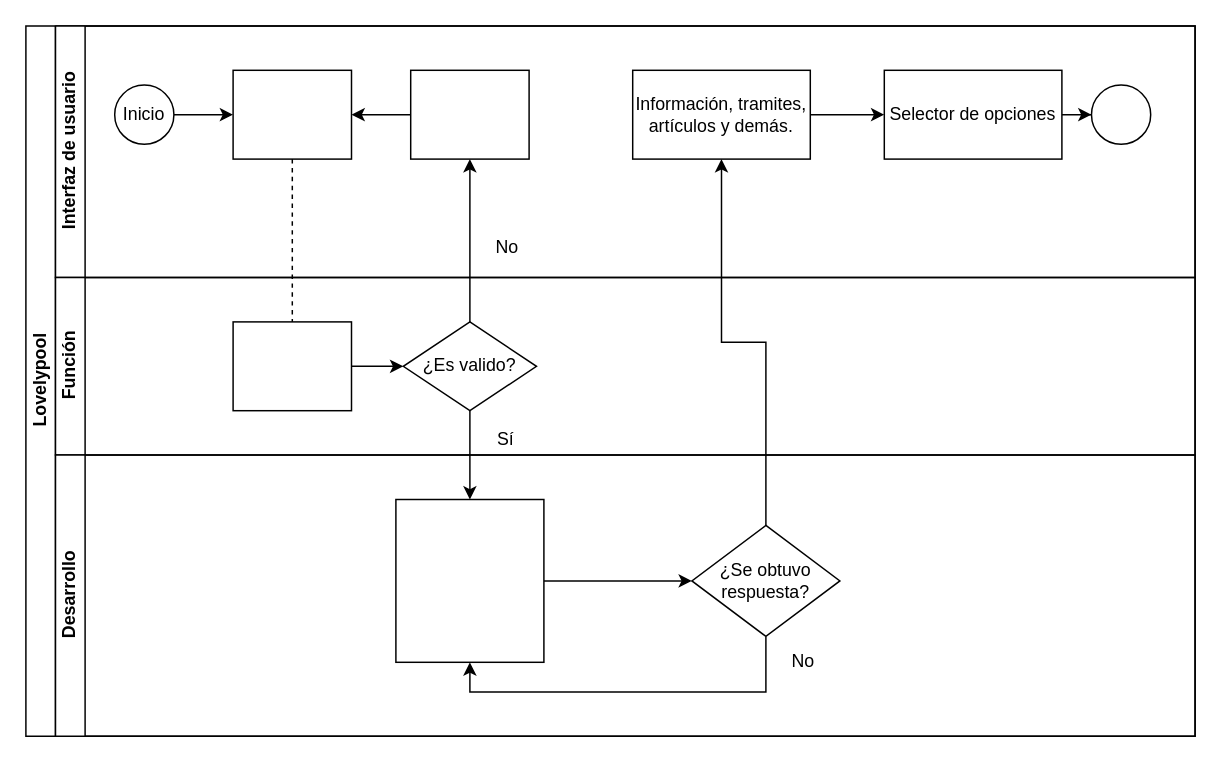
Some shapes in this 1221 by 762 pixel diagram are drawn without their labels. Here are the shapes that lost their labels. From the top down, the centre of each, then its label:
At (x=292, y=114): "Login".
At (x=469, y=114): "Muestra mensaje de error".
At (x=1120, y=114): "Fin".
At (x=292, y=365): "Autenticación de usuarios y despliegue de información".
At (x=469, y=580): "Realiza la consulta de información y despliega contenido".
